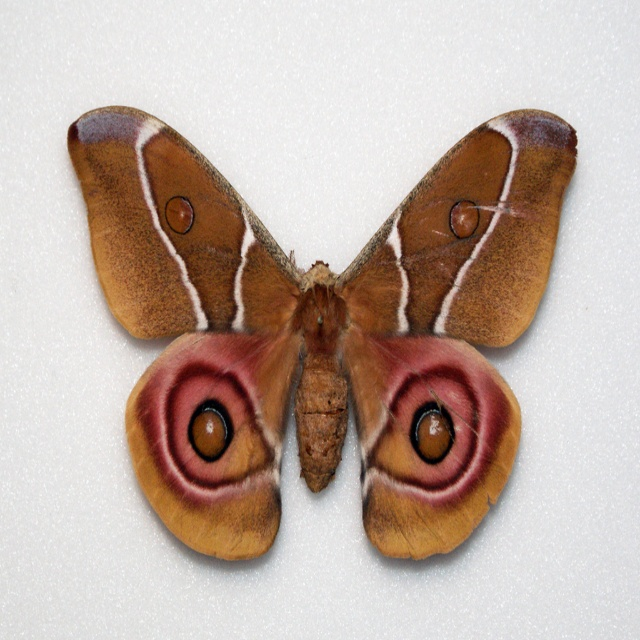Butterfly: (65, 85, 546, 577)
